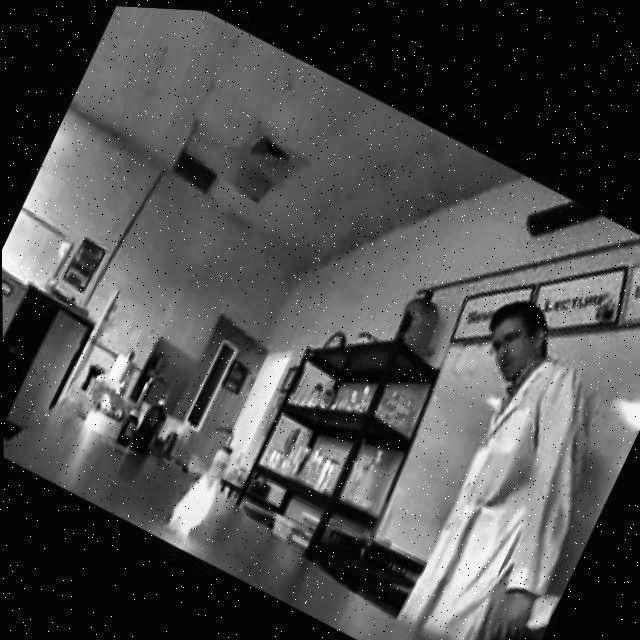Fire: (153, 417, 255, 553)
